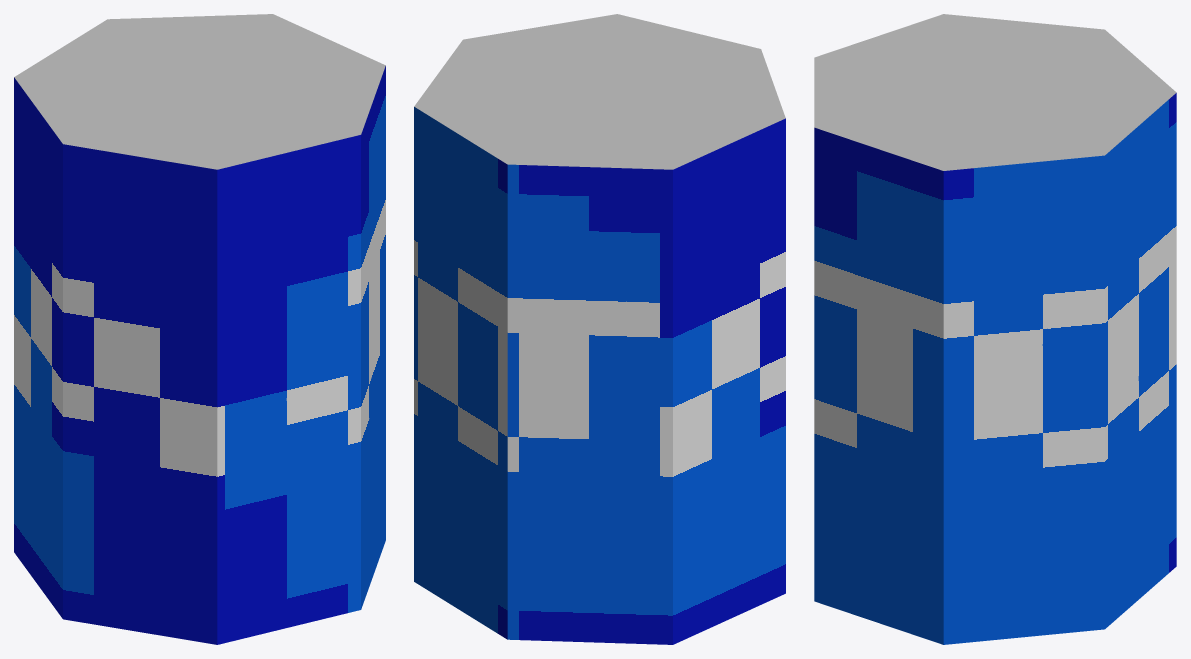
File: SodaCan.dae
The picture shows the model from 3 angles, left to right: view 1: azimuth 30°, elevation 25°; view 2: azimuth 150°, elevation 25°; view 3: azimuth 270°, elevation 25°; orthographic projection.
Visible parts, largest first — view 1: Cola; view 2: Cola; view 3: Cola.
Boxes of the visible parts, x1,y1,x2,y2 form: Cola: [14, 14, 385, 644]; Cola: [414, 14, 785, 644]; Cola: [814, 14, 1176, 644].
Bounding box in the file's own units: 0.1297 × 0.1265 × 0.1824.
Materials: 1 (1 with a texture image).
